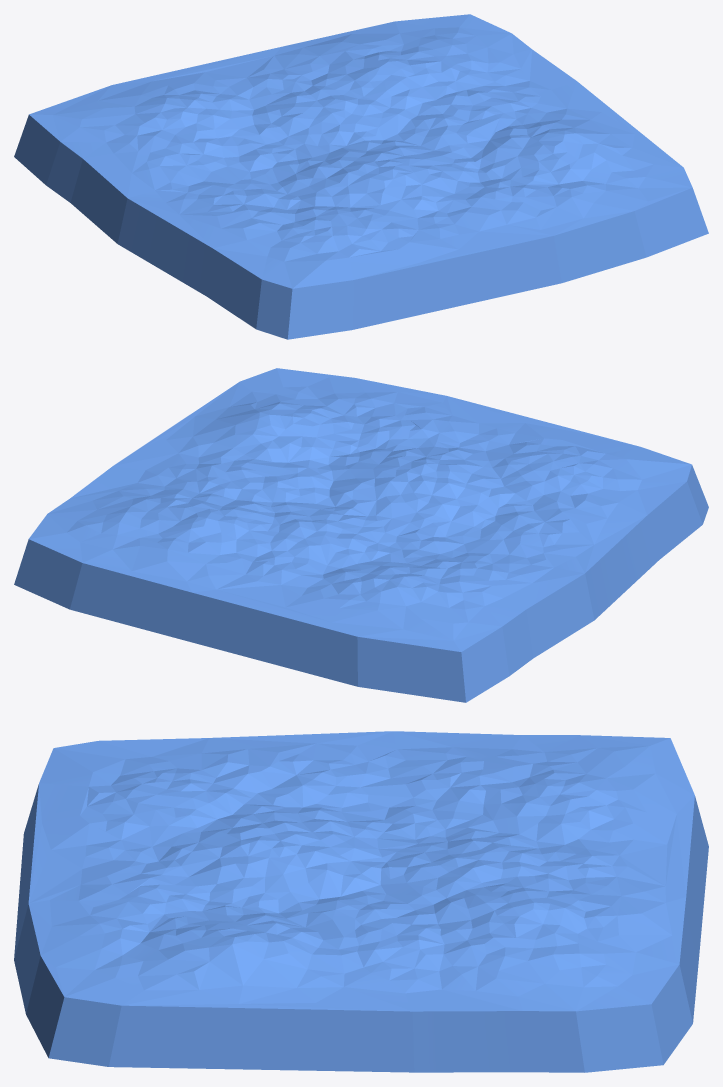
3 views of the same model, one above another, from view 1: azimuth 30°, elevation 25°; view 2: azimuth 150°, elevation 25°; view 3: azimuth 270°, elevation 25° (orthographic). The views are drawn at different scales.
Parts seen in each view (by area): view 1: PP_Meadow_07; view 2: PP_Meadow_07; view 3: PP_Meadow_07.
Boxes of the visible parts, box(x1,y1,x2,y2) form: PP_Meadow_07: box(14, 14, 708, 339); PP_Meadow_07: box(14, 368, 708, 702); PP_Meadow_07: box(14, 731, 708, 1072).
Size of the model in its own units: 2251 by 283 by 2259.
